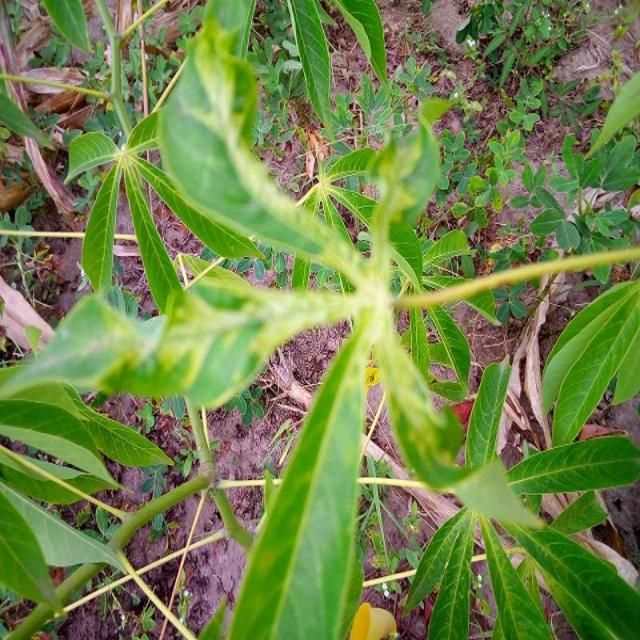cassava leaf: (1, 1, 638, 637), (226, 331, 367, 638)
